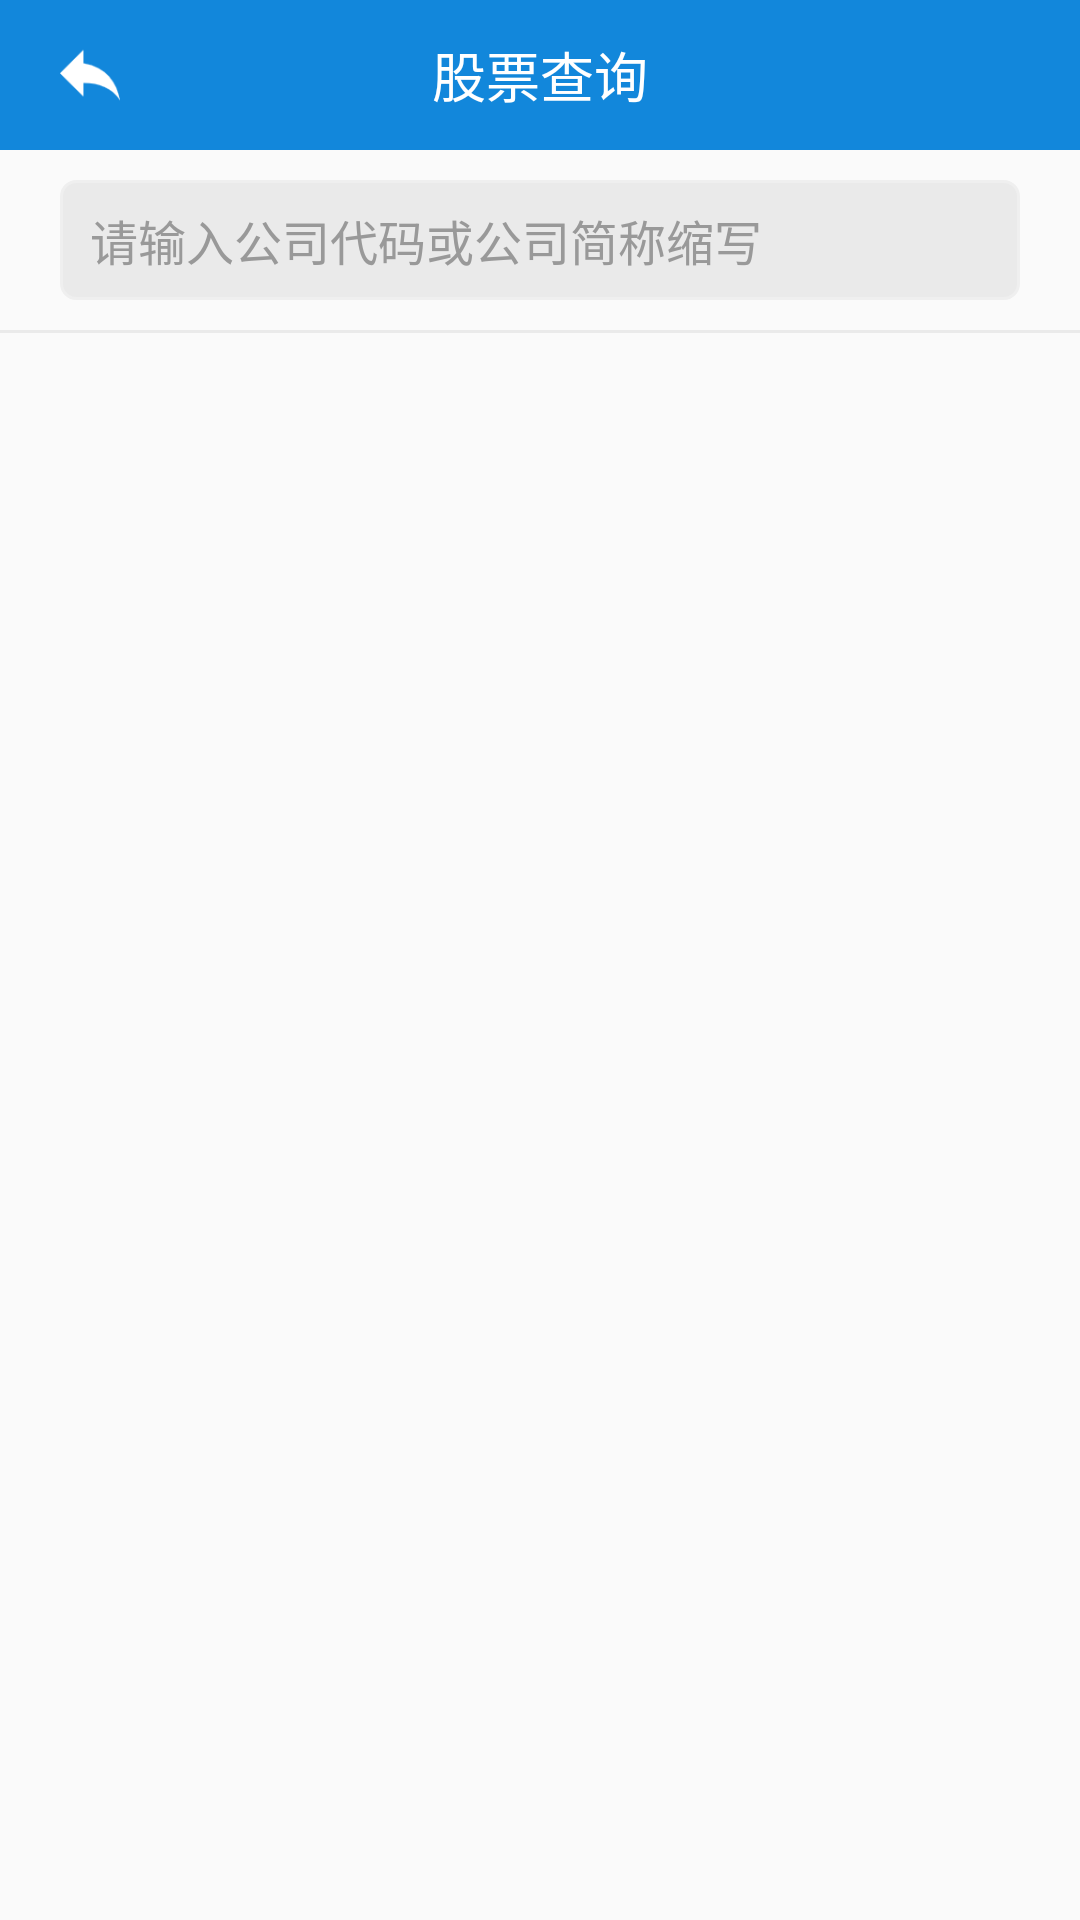

Where icons sit on this 1080 x 1920 app screen, as (x1, y1, x2, y2):
back: (60, 50, 120, 100)
